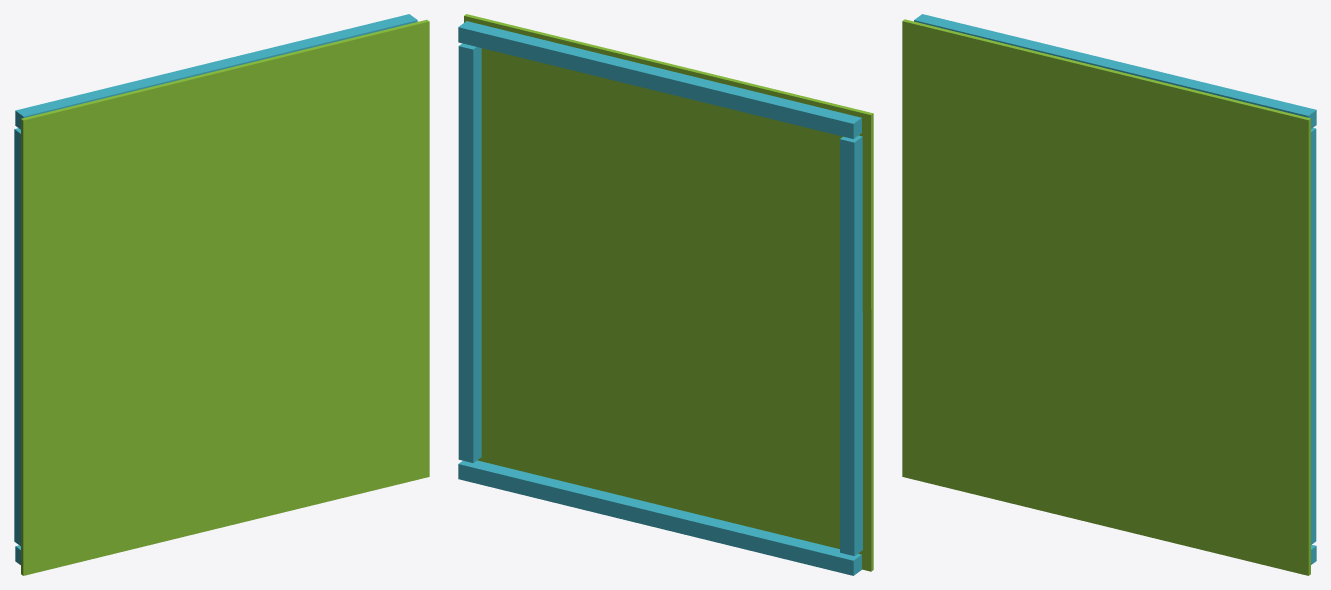
Rendered from arena.dae.
3 renders of one model, left to right at view 1: azimuth 30°, elevation 25°; view 2: azimuth 150°, elevation 25°; view 3: azimuth 330°, elevation 25°, orthographic.
Visible parts, largest first — view 1: GroundPlane, Cube_004, Cube_002; view 2: GroundPlane, Cube_003, Cube_004, Cube_002, Cube_005; view 3: GroundPlane, Cube_004, Cube_003.
Part boxes in pixels (x1,y1,x2,y2): GroundPlane: [21, 19, 429, 575]; Cube_004: [15, 14, 417, 129]; Cube_002: [14, 128, 20, 545]; GroundPlane: [464, 14, 873, 571]; Cube_003: [458, 43, 481, 462]; Cube_004: [458, 21, 861, 138]; Cube_002: [840, 135, 862, 555]; Cube_005: [458, 460, 861, 575]; GroundPlane: [902, 19, 1310, 575]; Cube_004: [914, 14, 1316, 128]; Cube_003: [1311, 128, 1316, 544].
Size of the model in its own units: 56 by 3.38 by 60.
